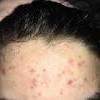Acne: (5, 56, 96, 92), (17, 60, 47, 90), (56, 74, 93, 92), (66, 57, 87, 82), (51, 61, 82, 77)
